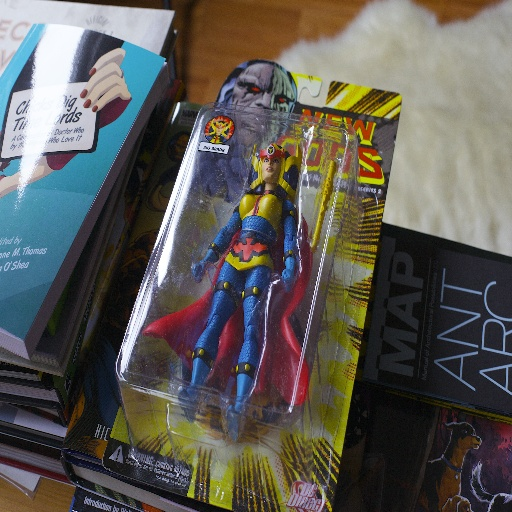hand: (75, 52, 124, 112), (188, 262, 205, 284), (280, 267, 293, 295)
